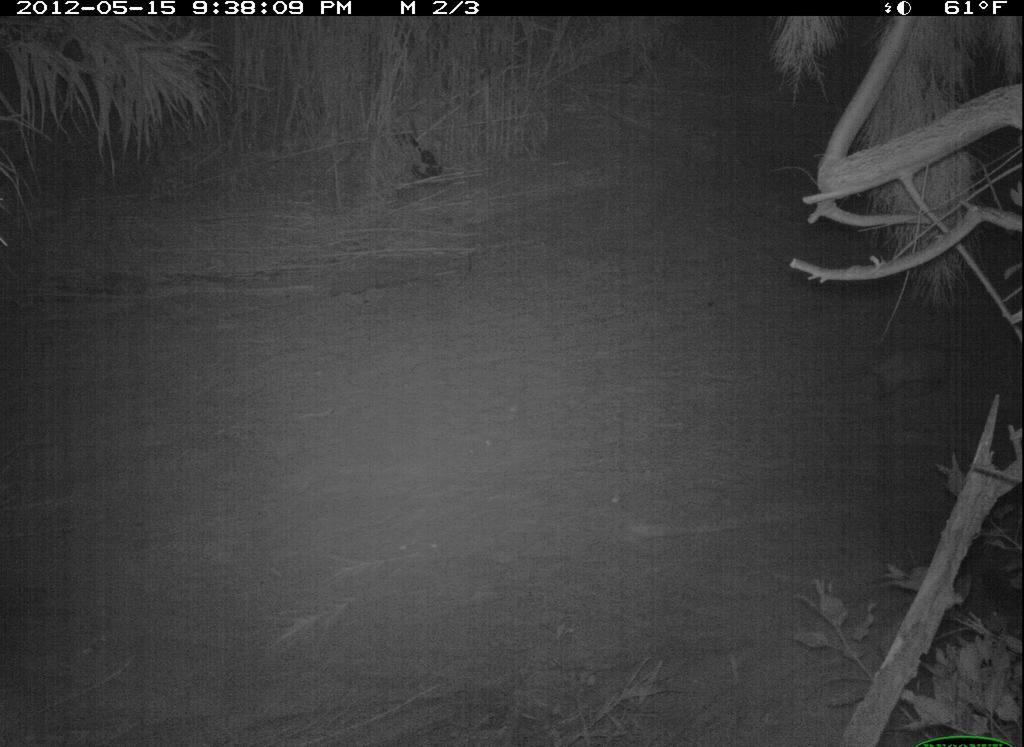opossum: (833, 331, 998, 413)
